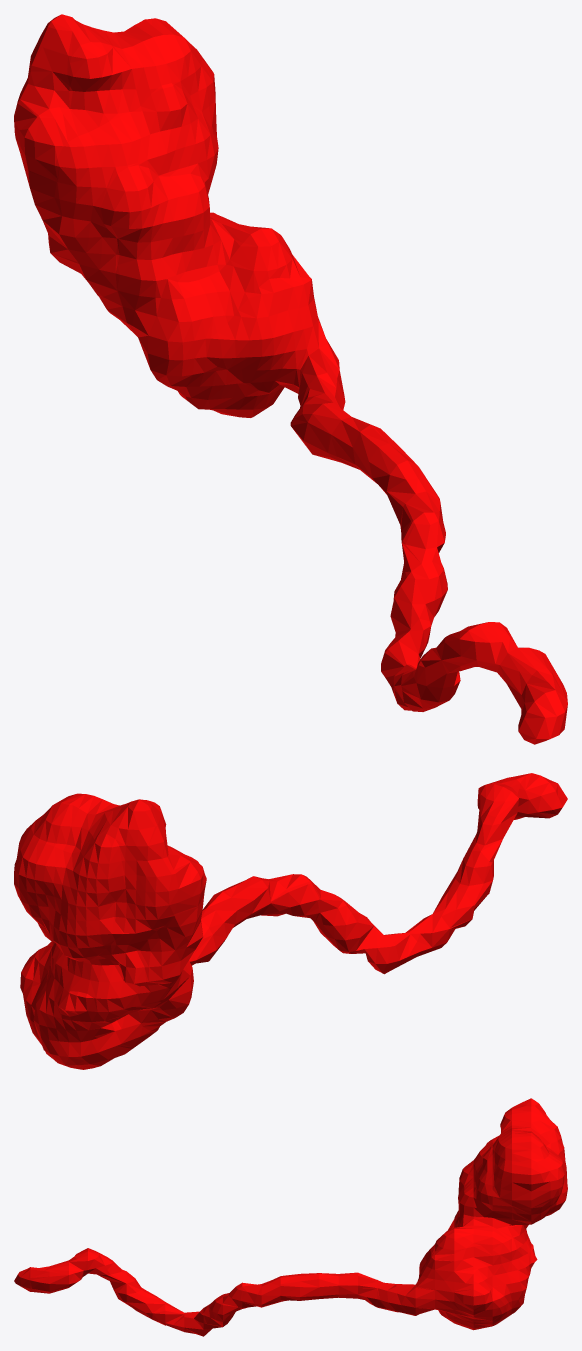
Rendered from nadR_coarse.dae.
3 views of the same model, one above another, from view 1: azimuth 30°, elevation 25°; view 2: azimuth 150°, elevation 25°; view 3: azimuth 270°, elevation 25° (orthographic). The views are drawn at different scales.
Visible parts, largest first — view 1: nadR; view 2: nadR; view 3: nadR.
Part boxes in pixels (x1=…): nadR: x1=14, y1=14, x2=567, y2=744; nadR: x1=14, y1=773, x2=567, y2=1069; nadR: x1=14, y1=1098, x2=567, y2=1336.
Bounding box in the file's own units: 57.42 × 98.31 × 213.
